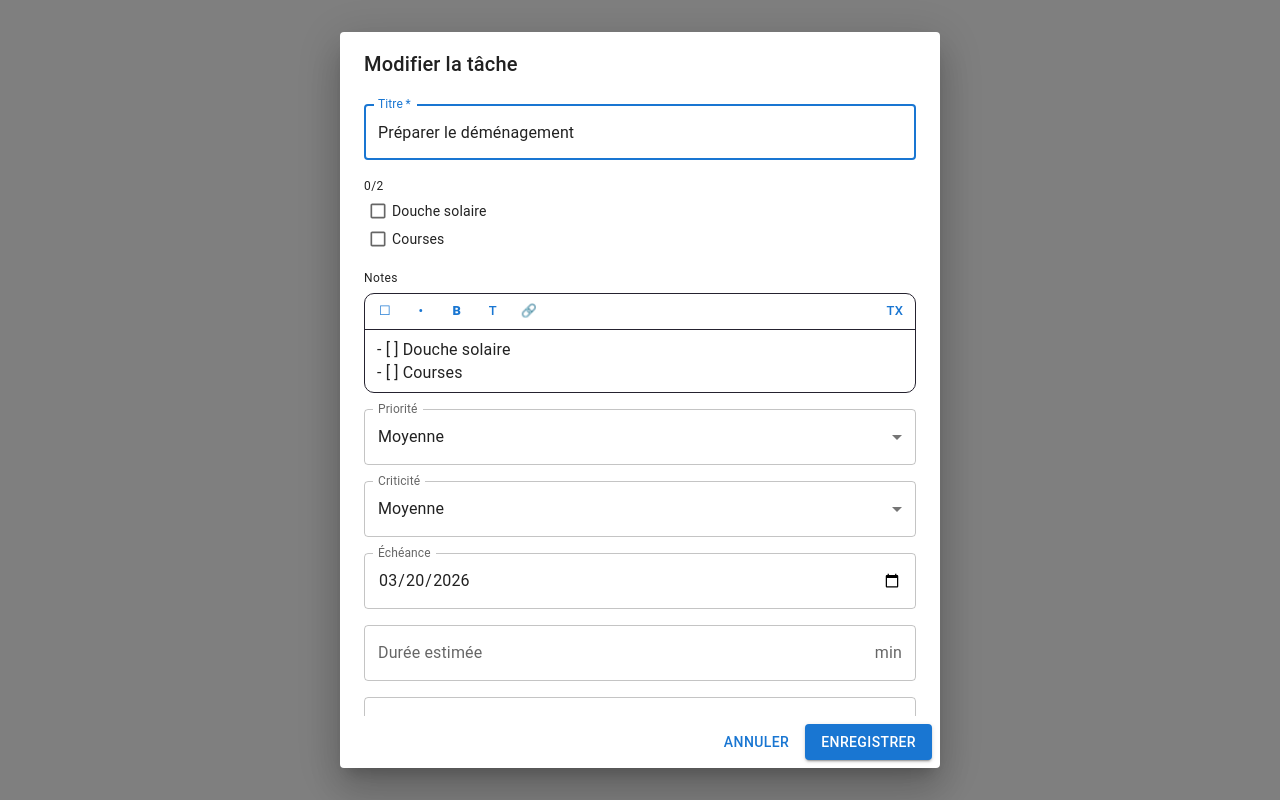
Test: TaskEditDialog › a box in the notes is ticked in place and saved as Markdown, with its count (MAG-722)
Expected: the text with test id "markdown-progress" reads "0/2", [364,179,384,193]
Step 1. Click the checkbox named "Douche solaire" → (378, 211), box [368,201,388,221]
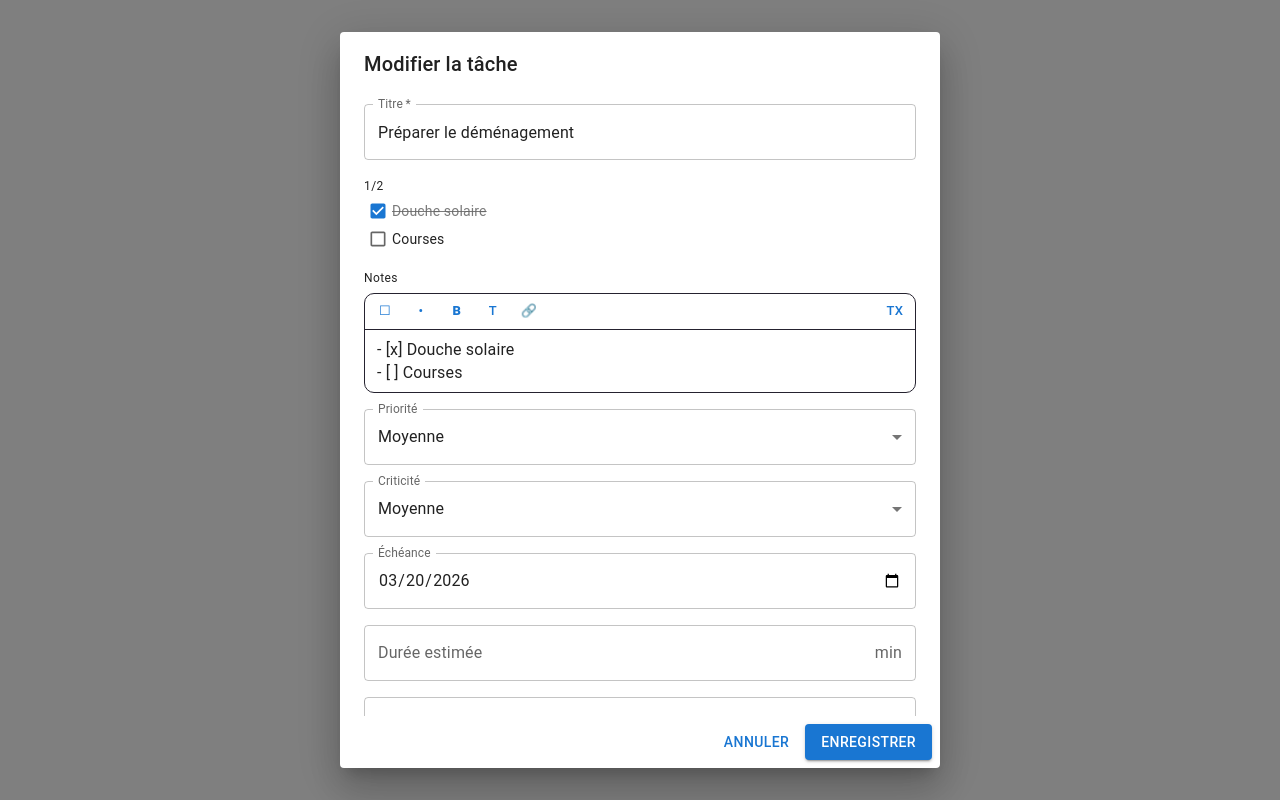
Expected: the text with test id "markdown-progress" reads "1/2", [364,179,384,193]
